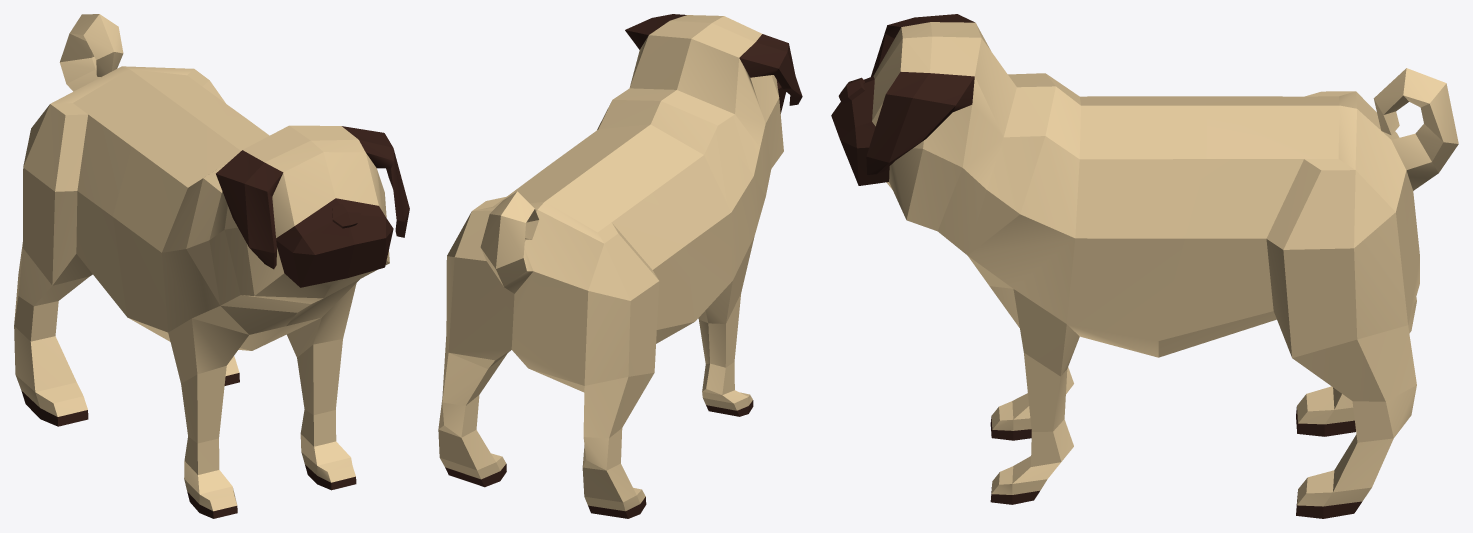
The model's file is bete-pug.glb.
3 views of the same model, side by side, from view 1: azimuth 30°, elevation 25°; view 2: azimuth 150°, elevation 25°; view 3: azimuth 270°, elevation 25° (orthographic). The views are drawn at different scales.
Parts seen in each view (by area): view 1: Cylinder, Cylinder_1; view 2: Cylinder, Cylinder_1; view 3: Cylinder, Cylinder_1.
Part boxes in pixels (box(x1,y1,x2,y2)): Cylinder: box(14, 14, 389, 511); Cylinder_1: box(21, 126, 409, 518); Cylinder: box(438, 15, 783, 511); Cylinder_1: box(445, 14, 802, 518); Cylinder: box(872, 22, 1458, 506); Cylinder_1: box(831, 14, 1362, 518).
Size of the model in its own units: 0.1904 by 0.3492 by 0.4616.
